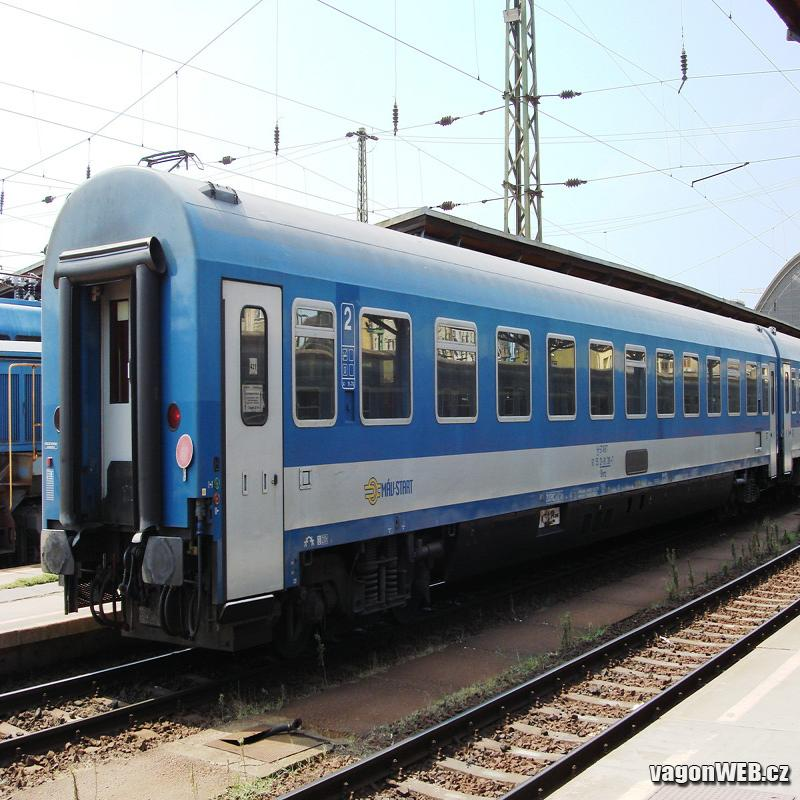train: (41, 168, 780, 702)
